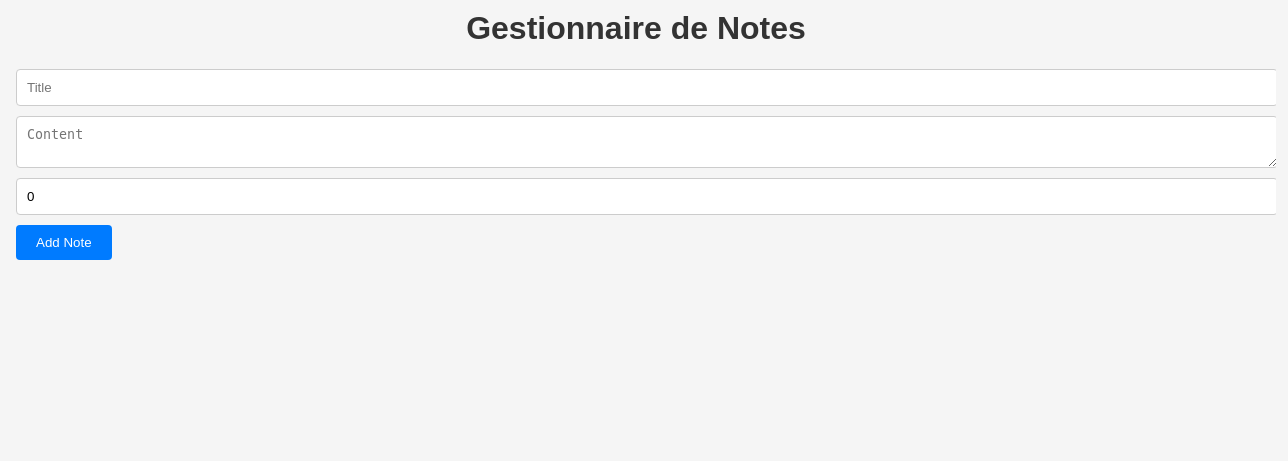
Test case: It should add a new note and display it in the list
Type "Integration Test Note" into the field with placeholder "Title" at [646, 87], box [16,69,1276,106]
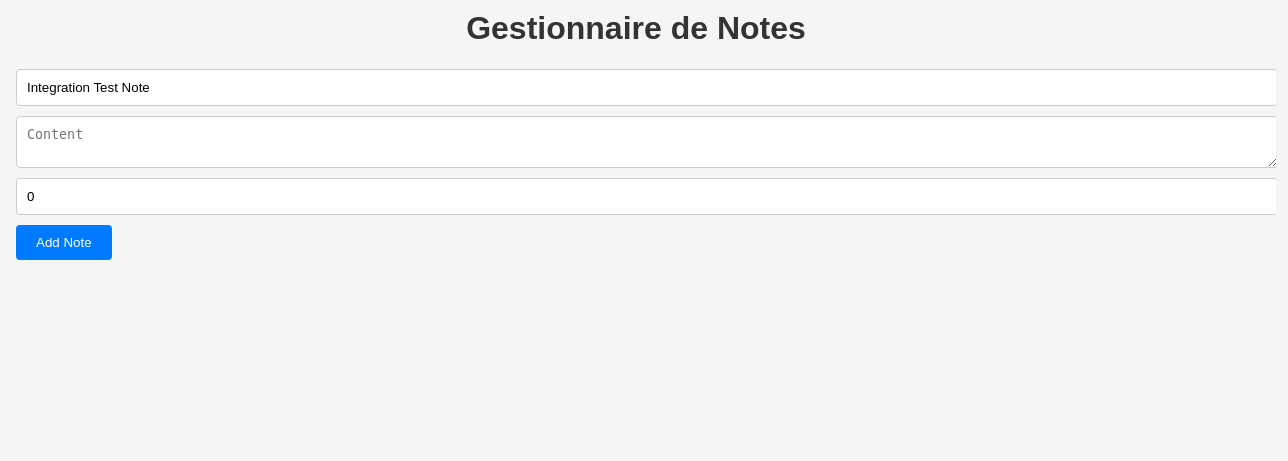
Type "Integration Test Content" into the text box with placeholder "Content" at [646, 142], box [16,116,1276,168]
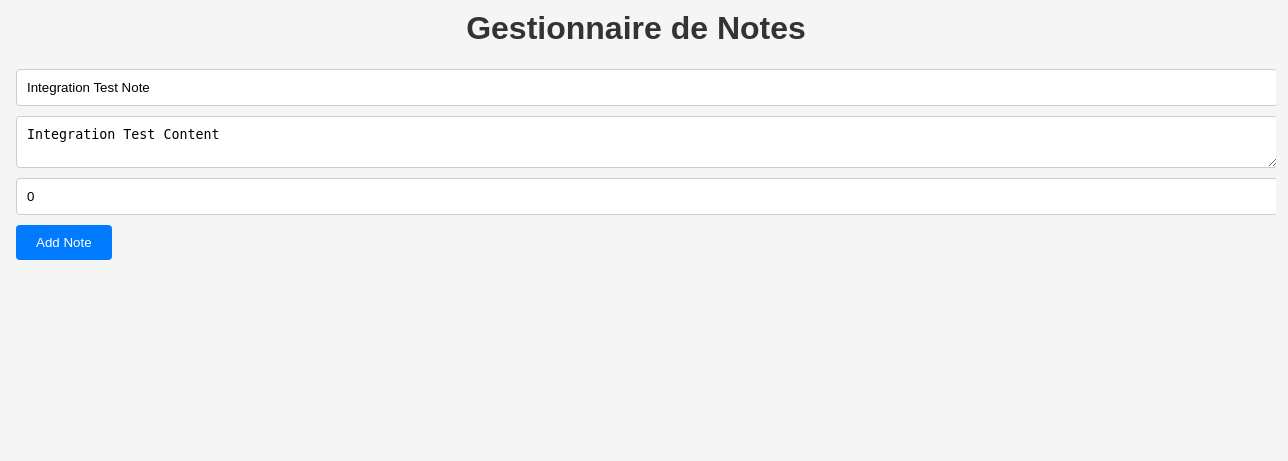
Replace the text in the number field with placeholder "Score" with "12" at [646, 196], box [16,178,1276,215]
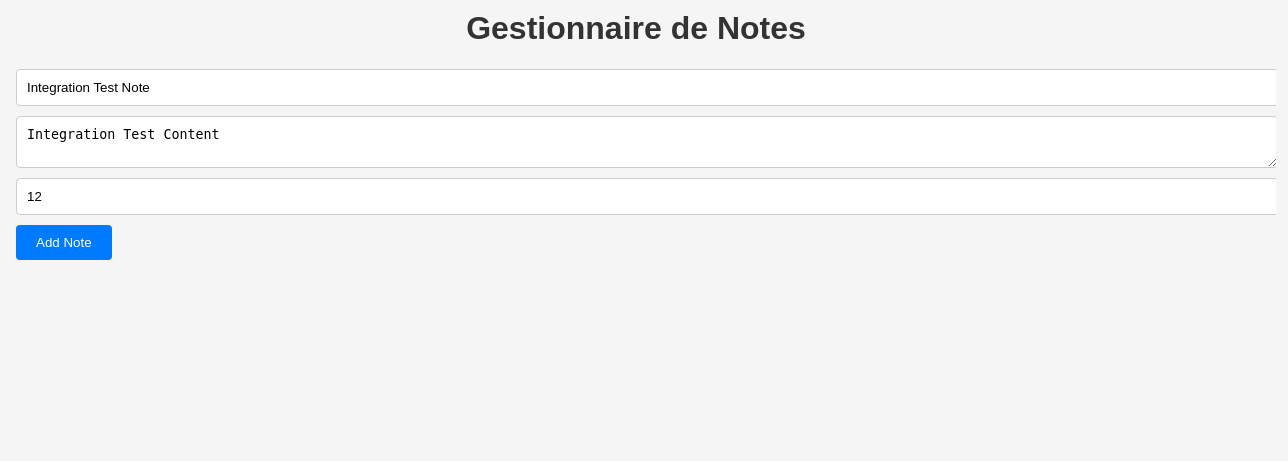
Click the button "Add Note" at [64, 242], box [16,225,112,260]
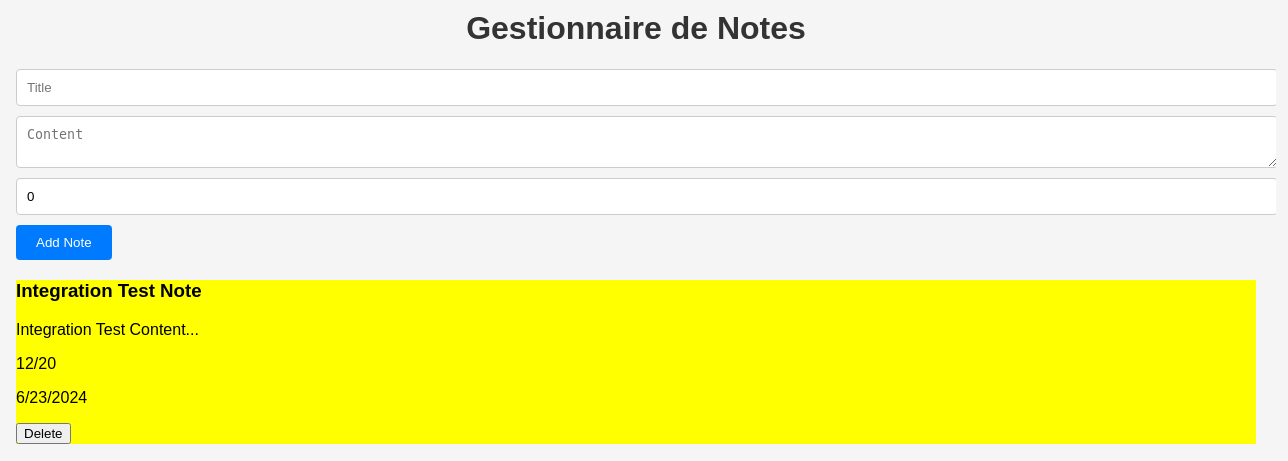
expect the heading "Integration Test Note" is shown: met, box [16,280,202,301]
expect the text "Integration Test Content..." is shown: met, box [16,321,199,338]
